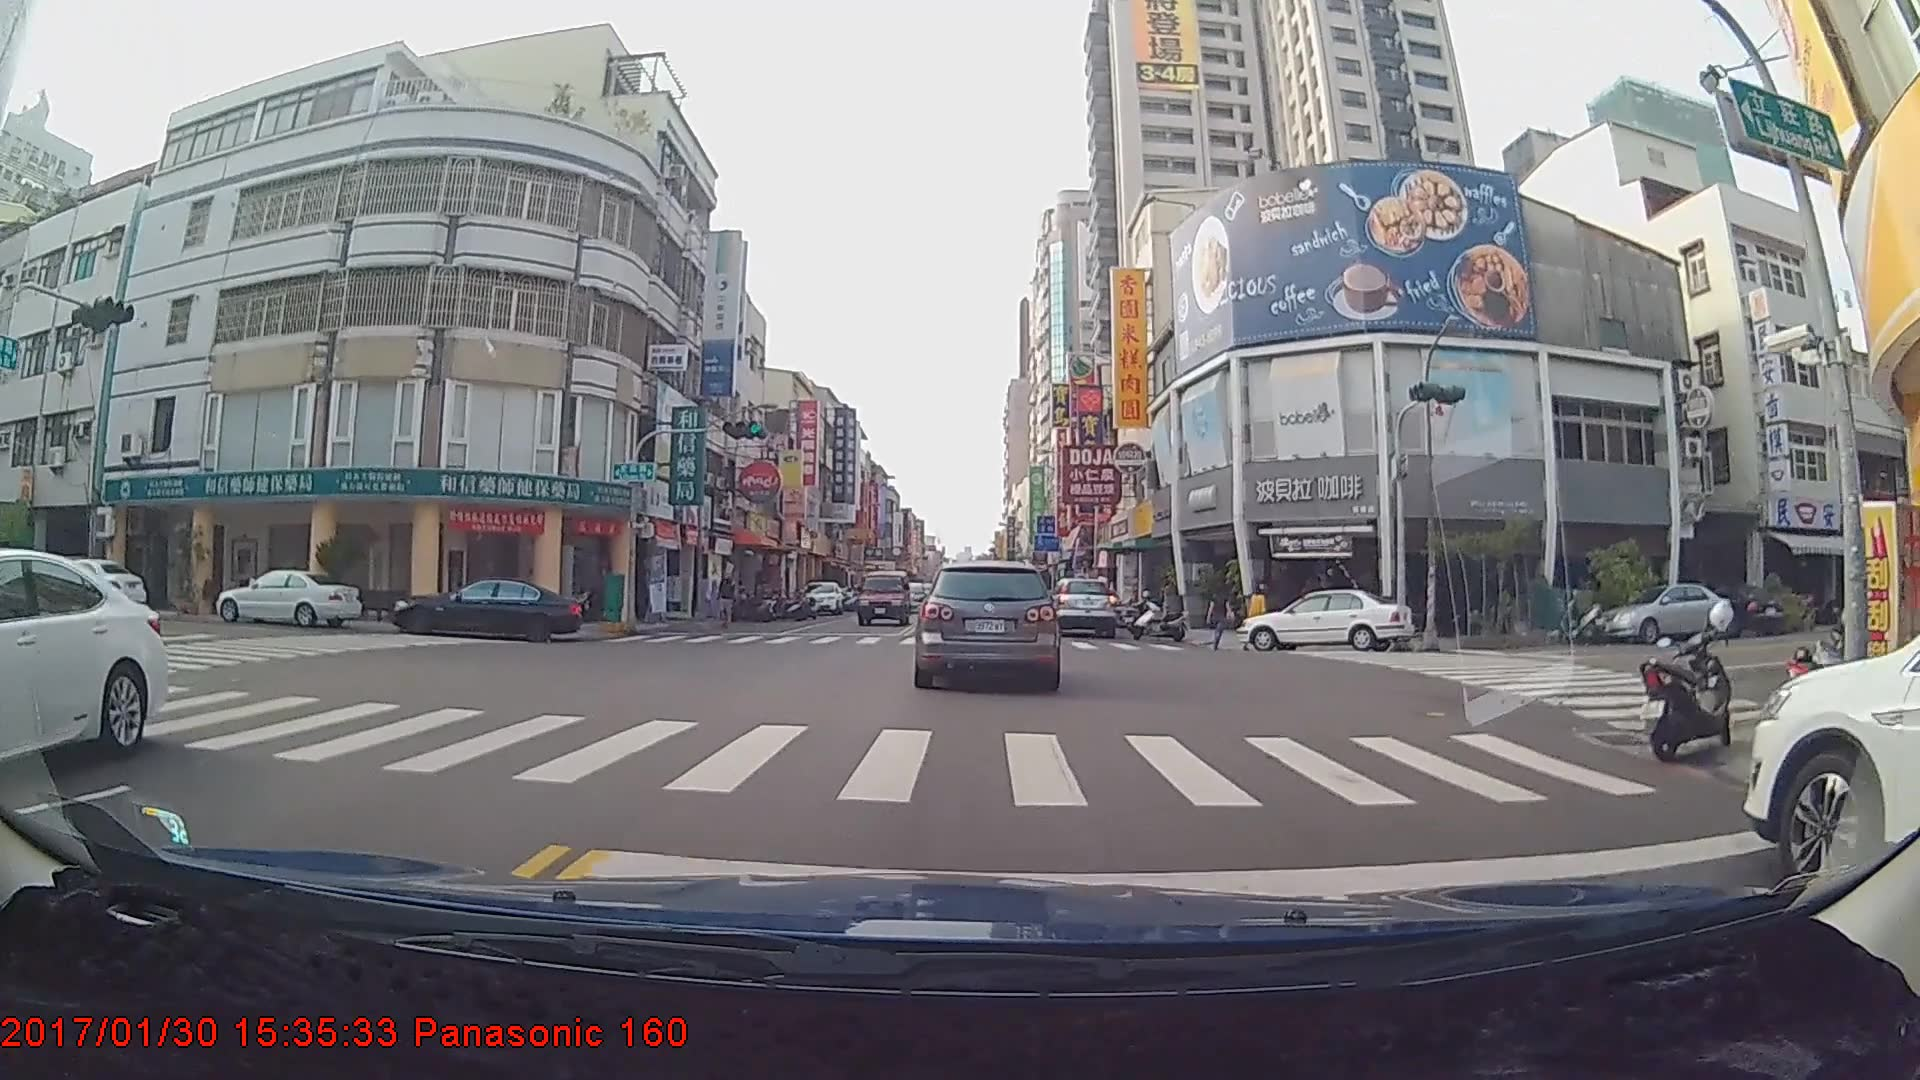pedestrian: (1206, 583, 1236, 652), (1248, 583, 1271, 650), (717, 572, 738, 631)
vehicle: (1745, 548, 1920, 964), (0, 543, 168, 808), (916, 558, 1056, 688), (386, 576, 581, 641), (1235, 588, 1413, 652), (217, 568, 364, 630), (1596, 581, 1730, 645), (1044, 576, 1117, 640), (854, 570, 910, 628), (796, 580, 843, 615)
